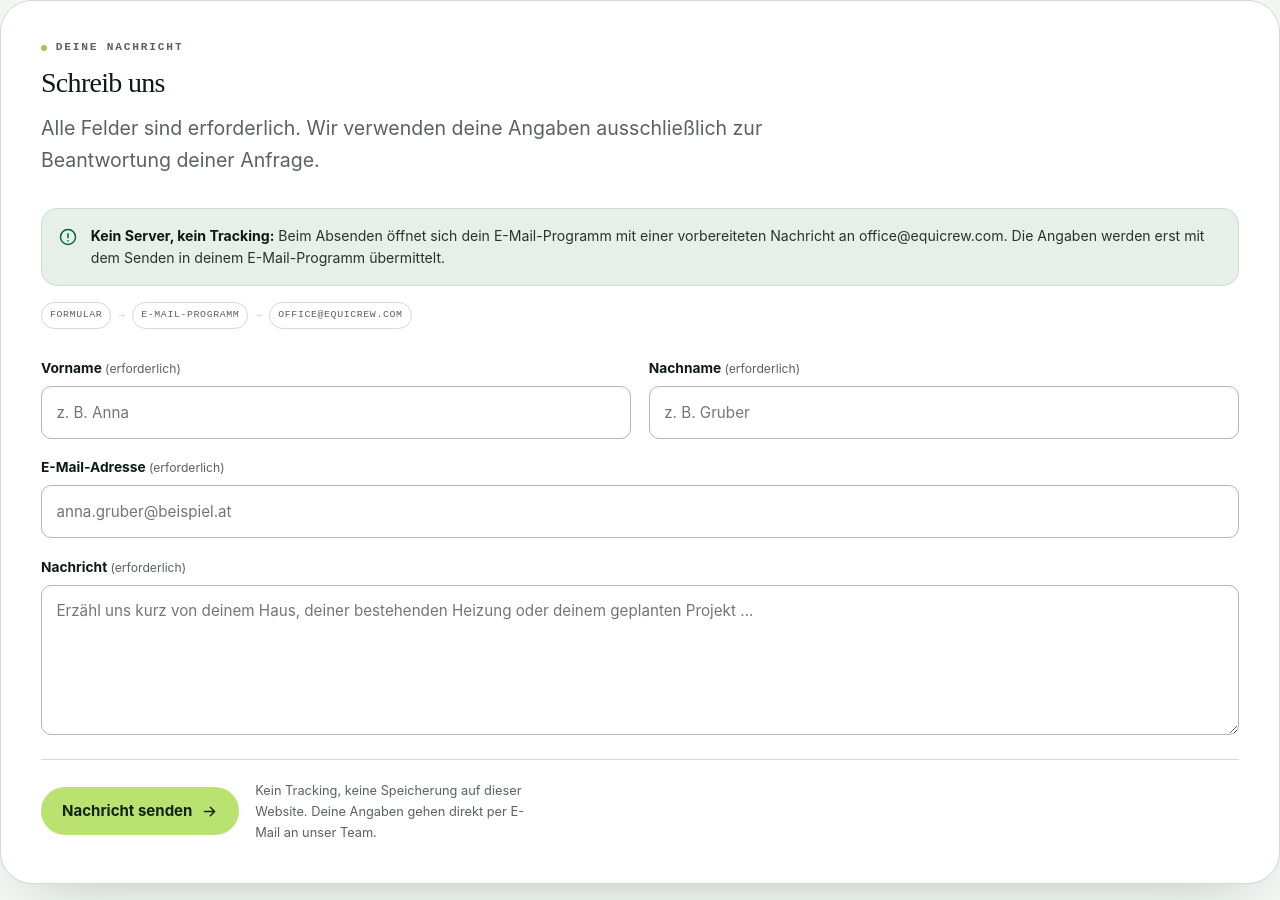
Test case: ContactForm › opens the mailto link and confirms after a valid submit
In the field labelled "Vorname (erforderlich)": (336, 412) [41,386,631,439], type "Anna"
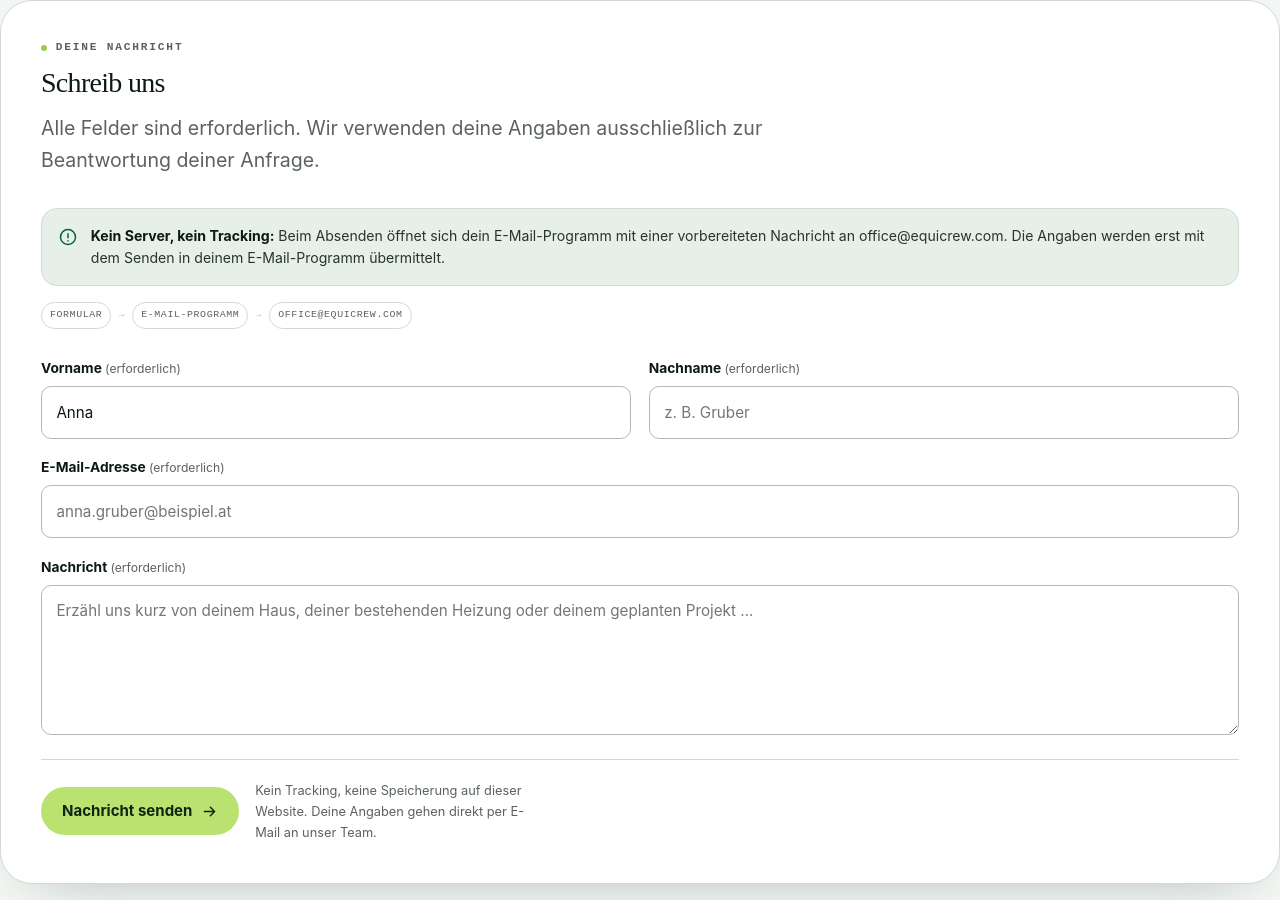
In the field labelled "Nachname (erforderlich)": (944, 412) [649,386,1239,439], type "Grüber"
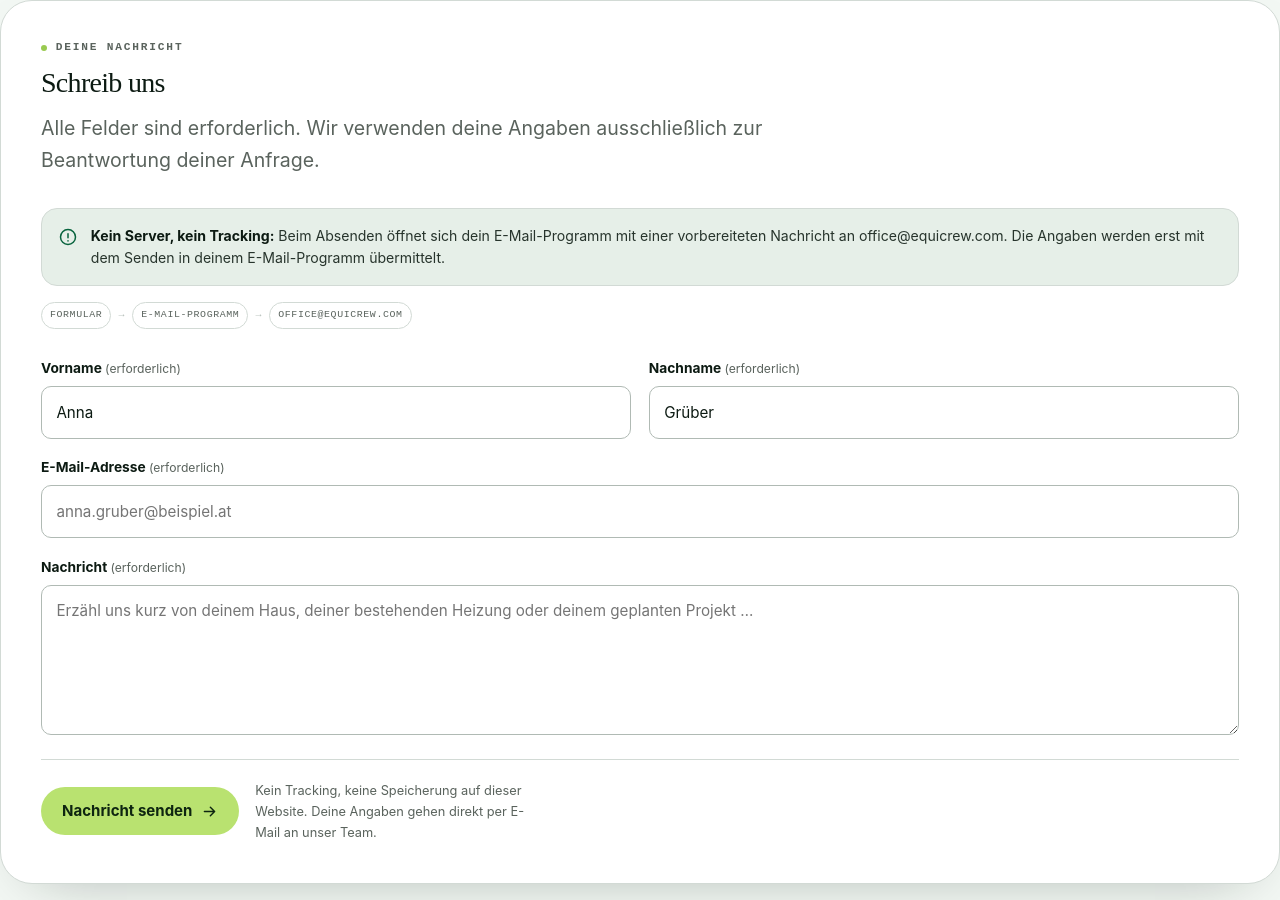
In the field labelled "E-Mail-Adresse (erforderlich)": (640, 512) [41,486,1239,538], type "anna.grueber@beispiel.at"
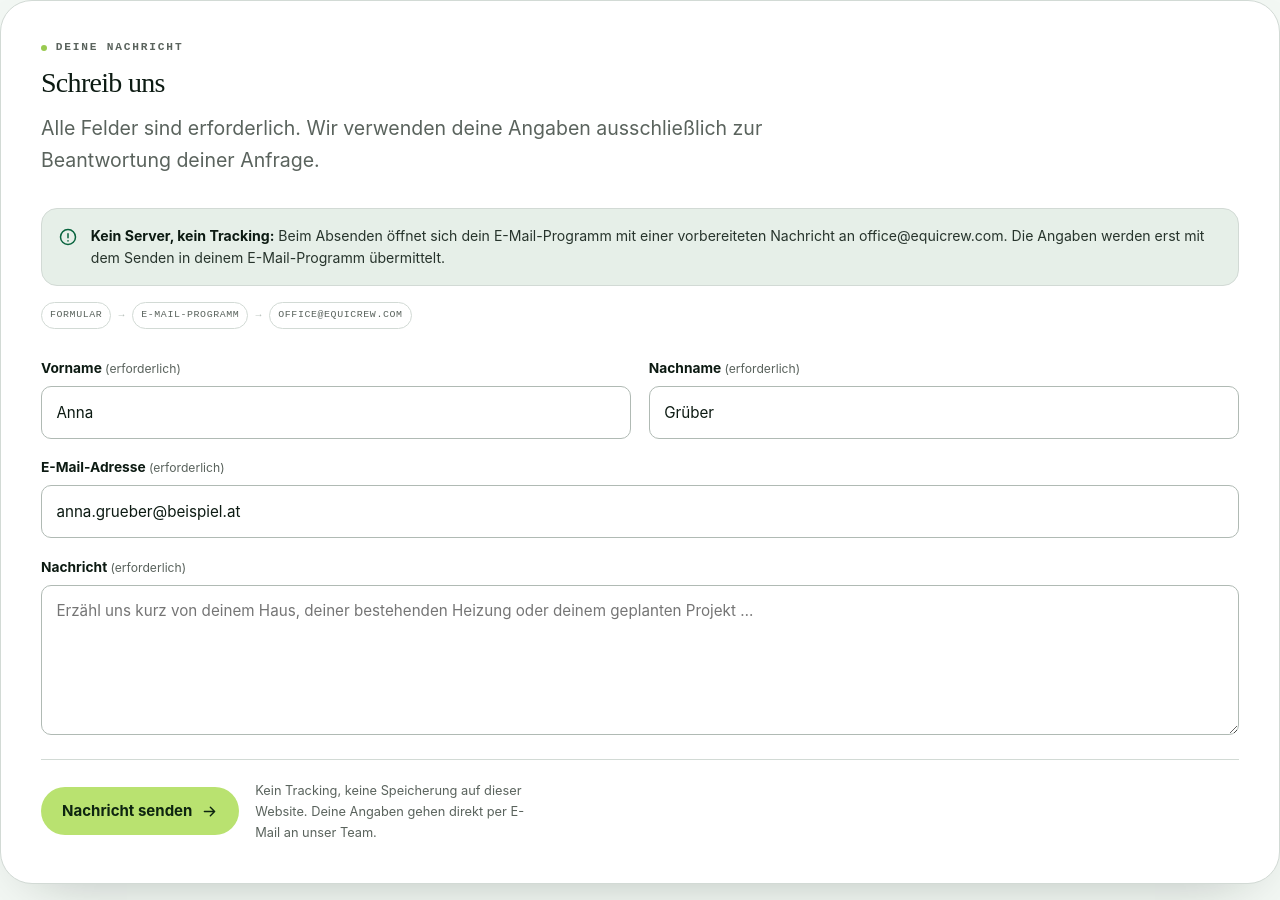
Replace the text in the text box labelled "Nachricht (erforderlich)" with "Ich interessiere mich für den EquiCube.": (640, 660) [41,585,1239,735]
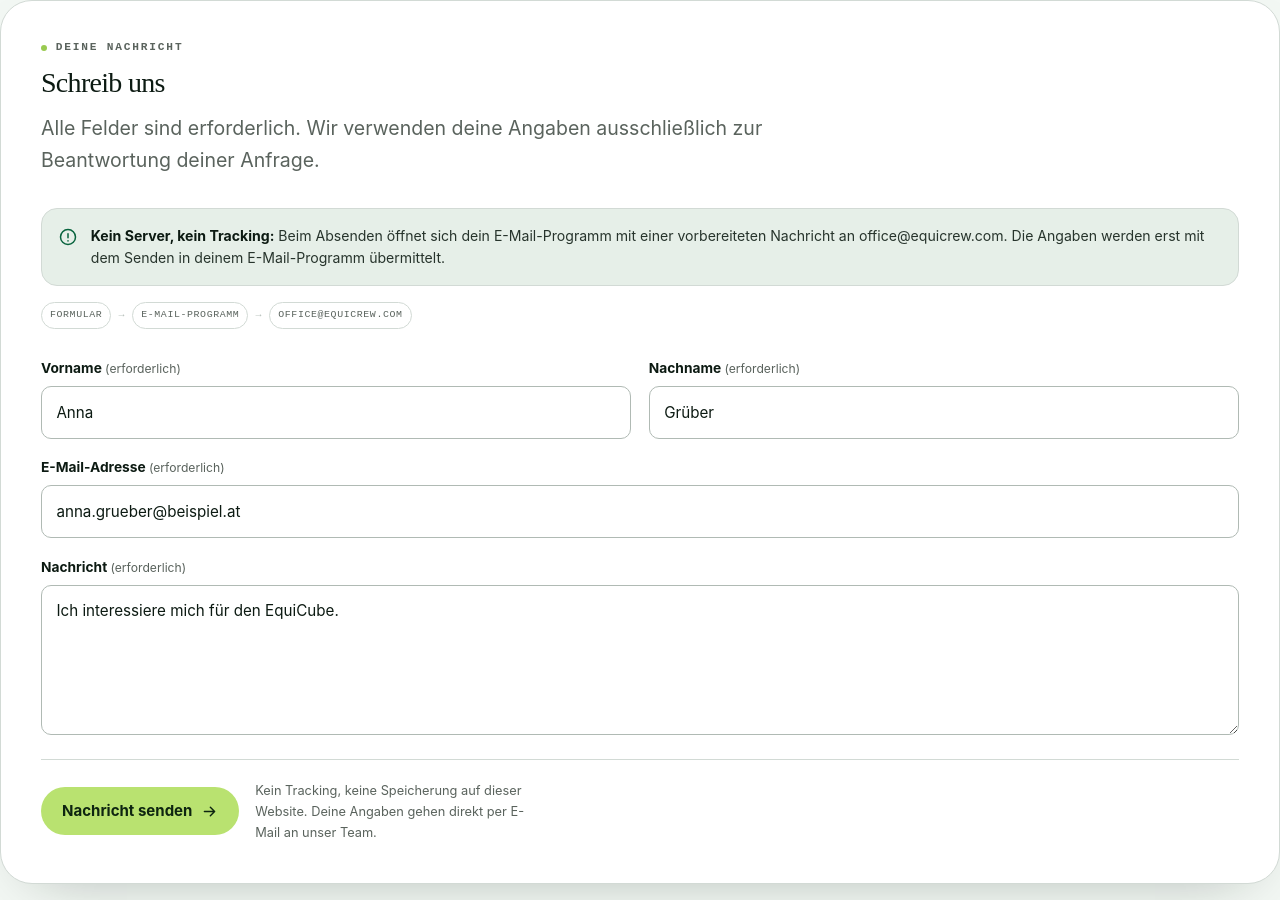
Click the button "Nachricht senden": (140, 812) [41,788,239,836]
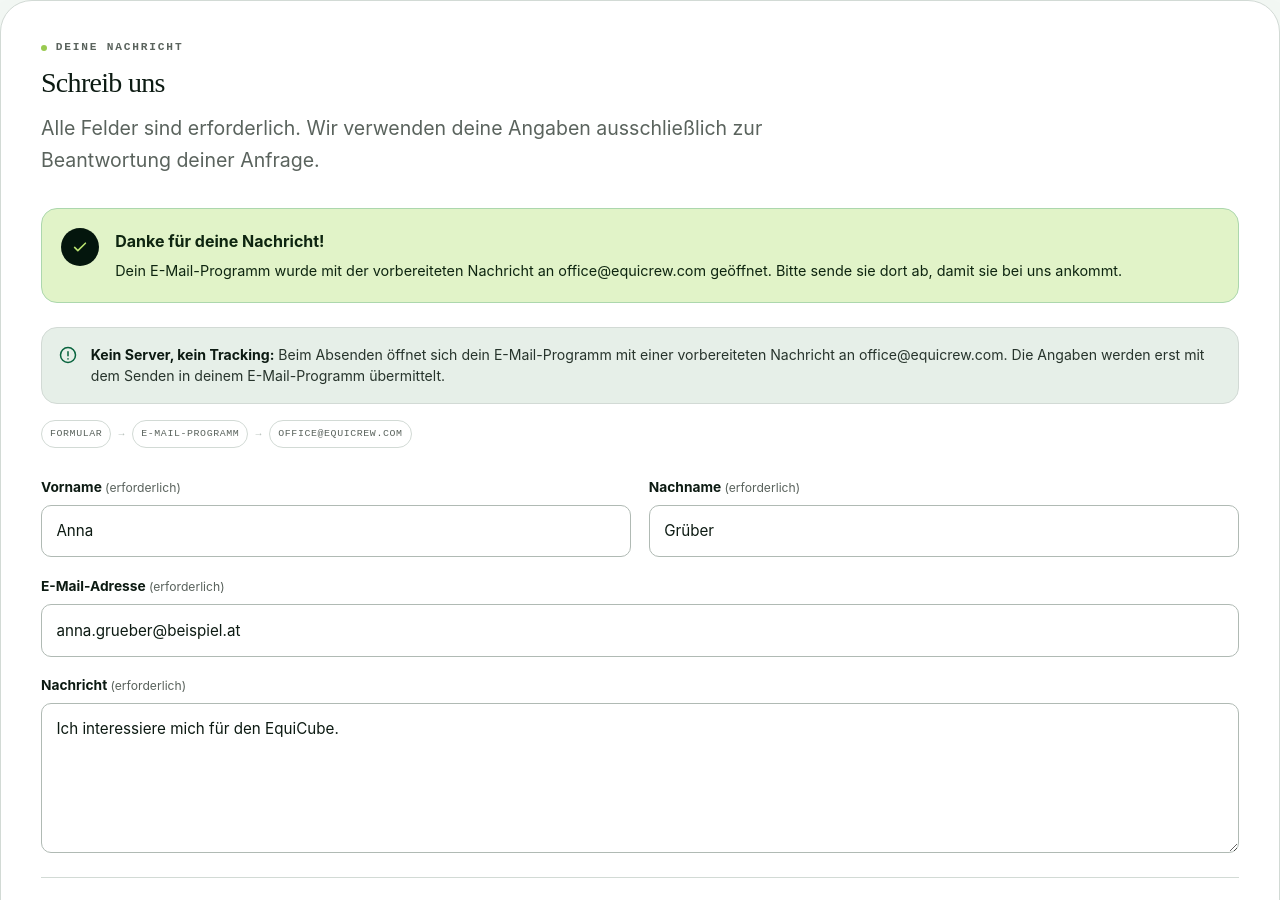
Expected: the message shows "Danke für deine Nachricht!", [115,231,324,251]
Expected: the text "Bitte sende sie dort ab, damit sie bei uns ankommt" is shown, [115,262,1122,279]
